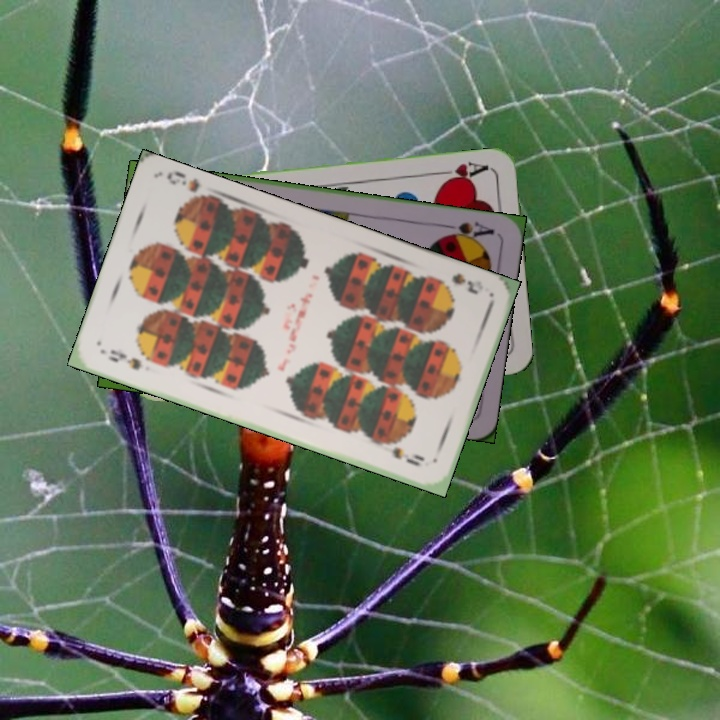HA: (432, 157, 491, 186)
S9: (431, 269, 481, 297), (103, 345, 144, 373)
SA: (437, 218, 497, 244)
